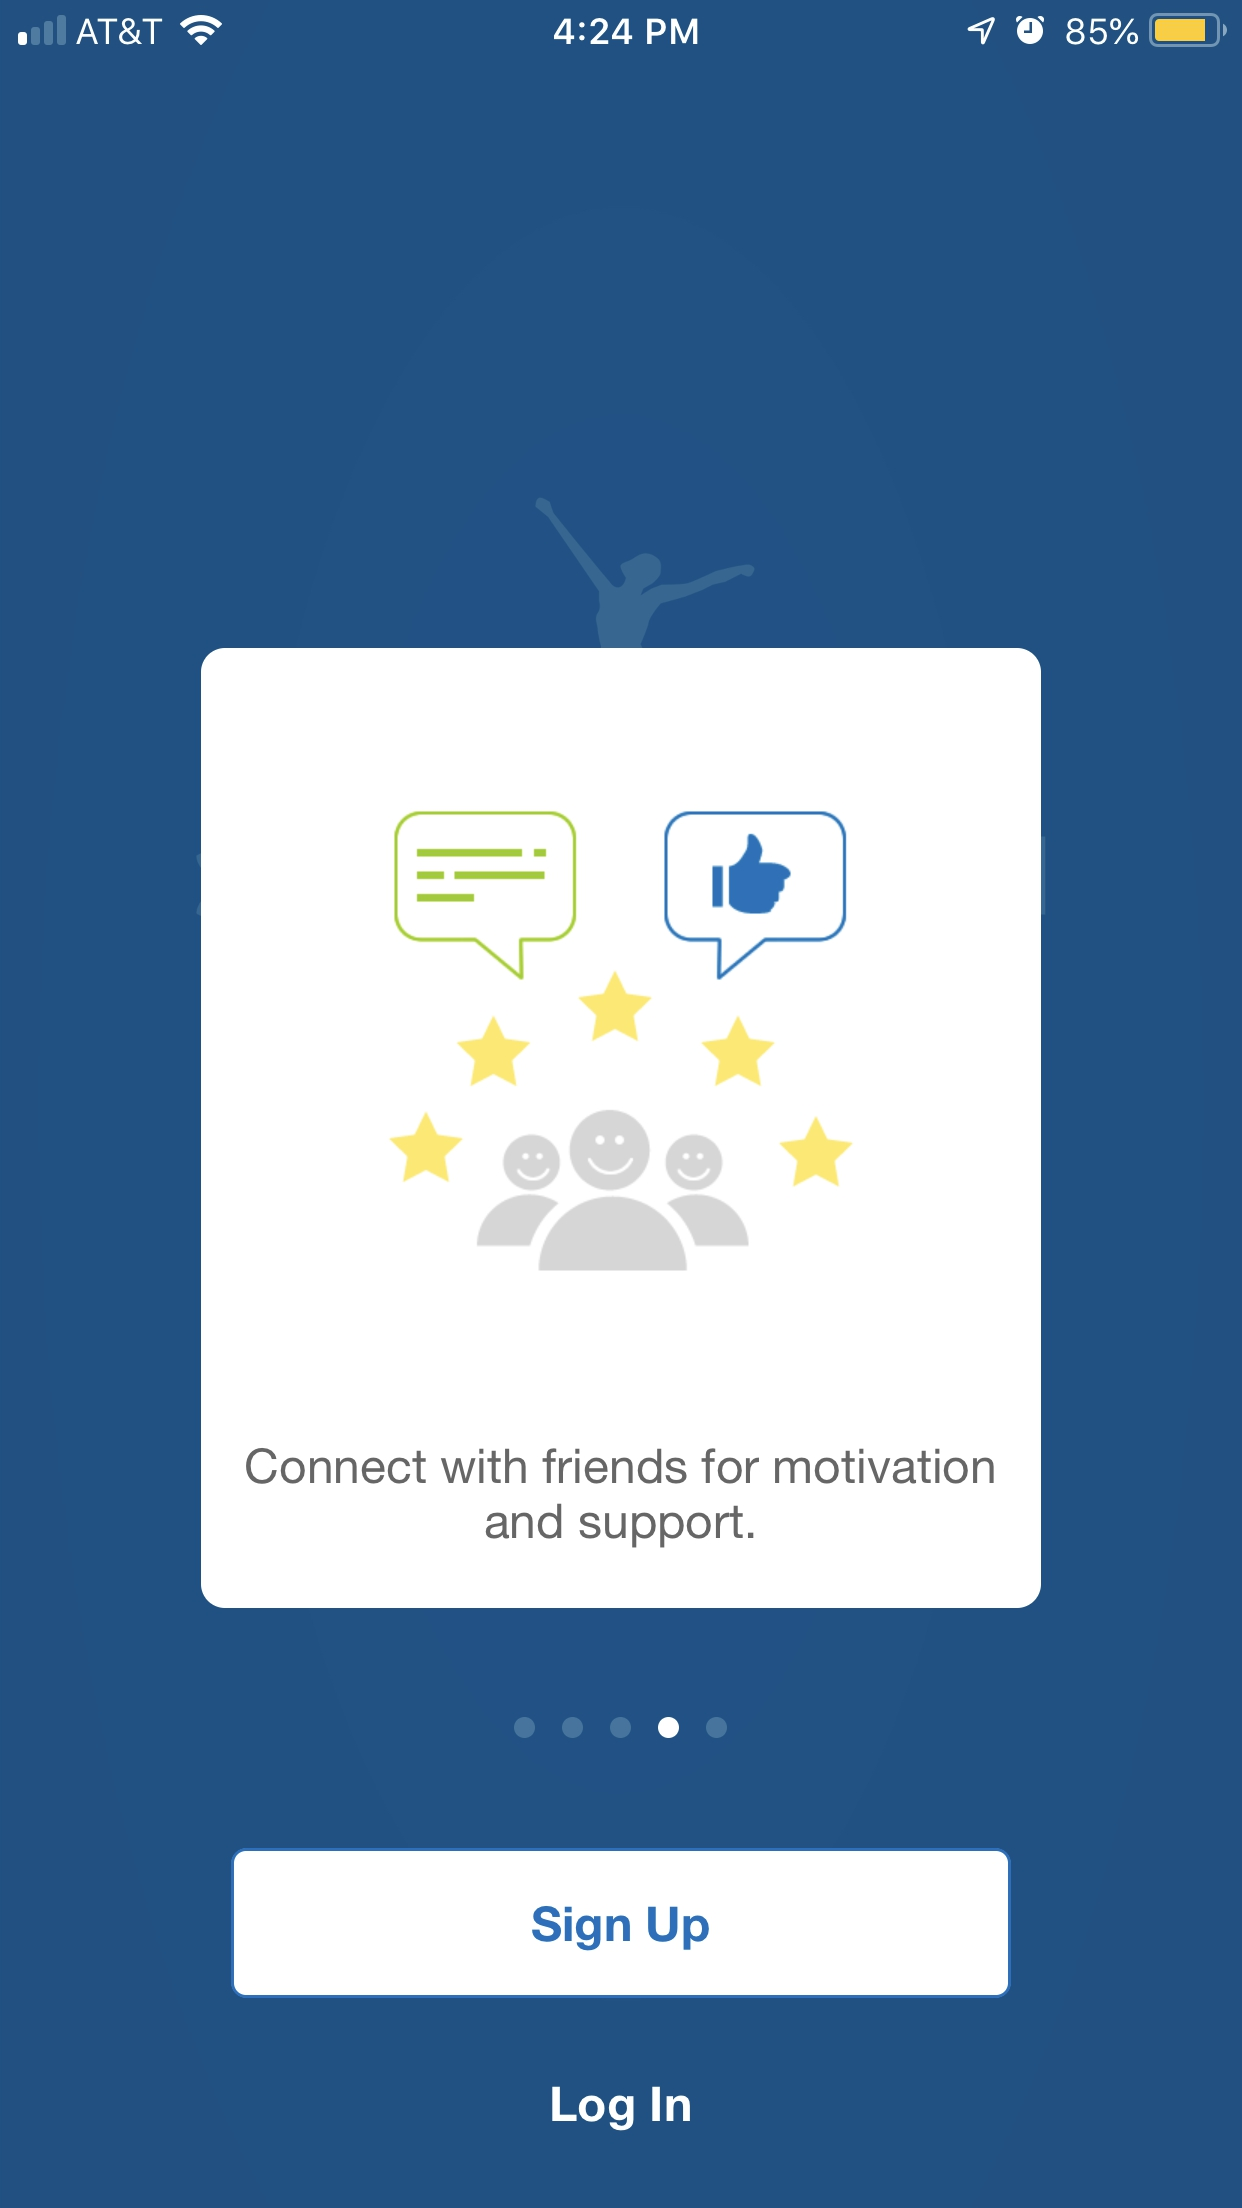Image: (388, 808, 854, 1272), (535, 497, 755, 649)
PageIndicator: (514, 1717, 728, 1739)
Text: (246, 1447, 995, 1548), (550, 2085, 692, 2132)
TextButton: (231, 1849, 1011, 1999)
UpperTaskBar: (2, 2, 1242, 49)
